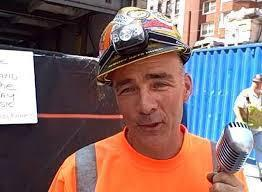helmet: (97, 6, 191, 84)
